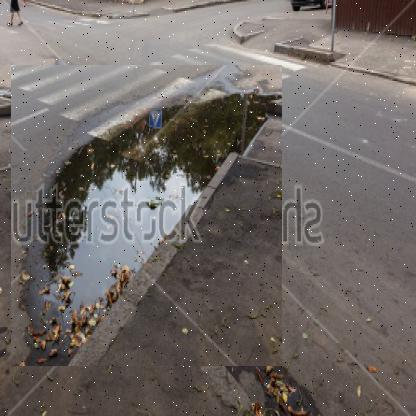pothole_water: (10, 65, 282, 367)
